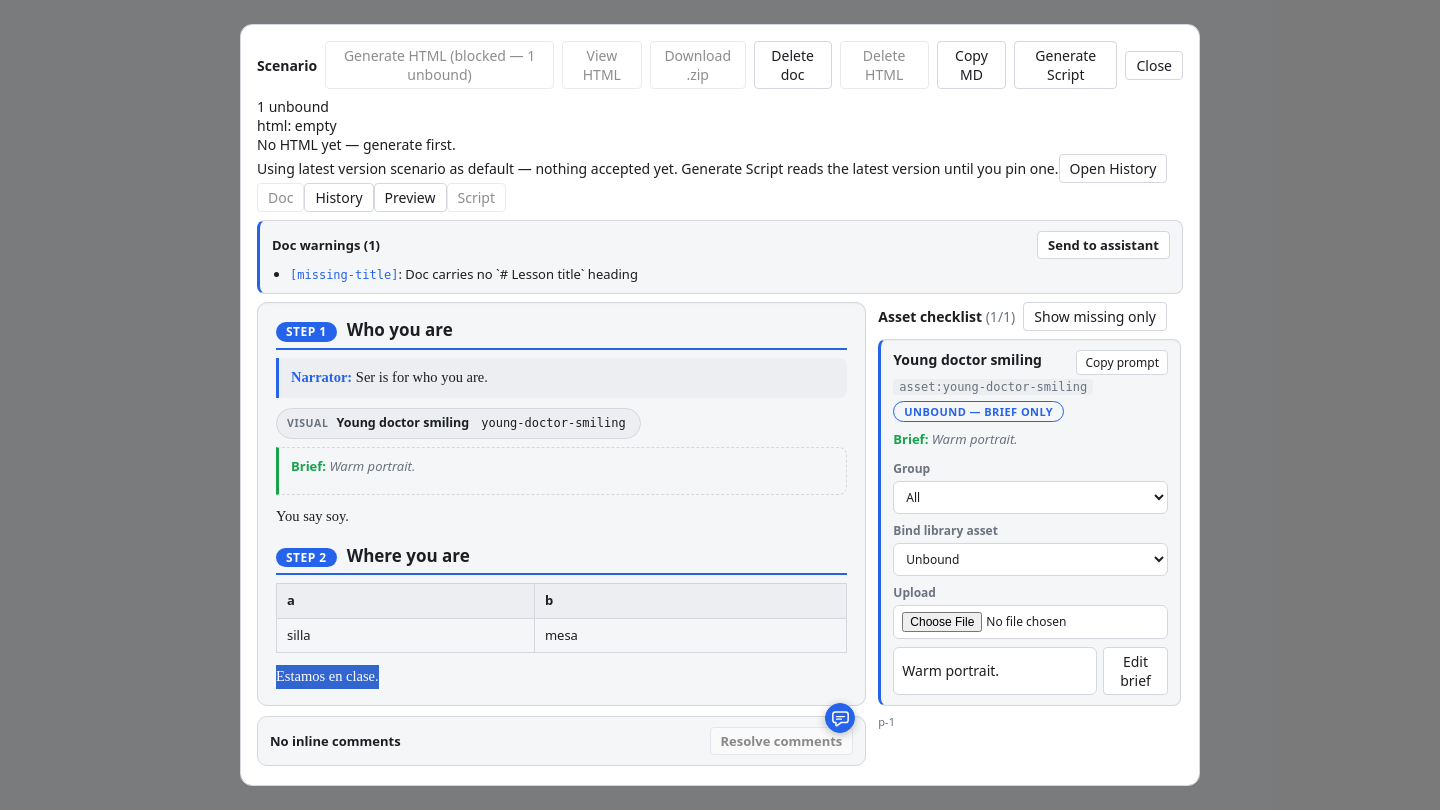
Test: AiScenarioDocComments in the scenario modal › selecting text surfaces the floating button and editing/deleting works
Step 1. Click the button with test id "ai-scenario-comment-float-btn" → (840, 718), box [825, 703, 855, 733]
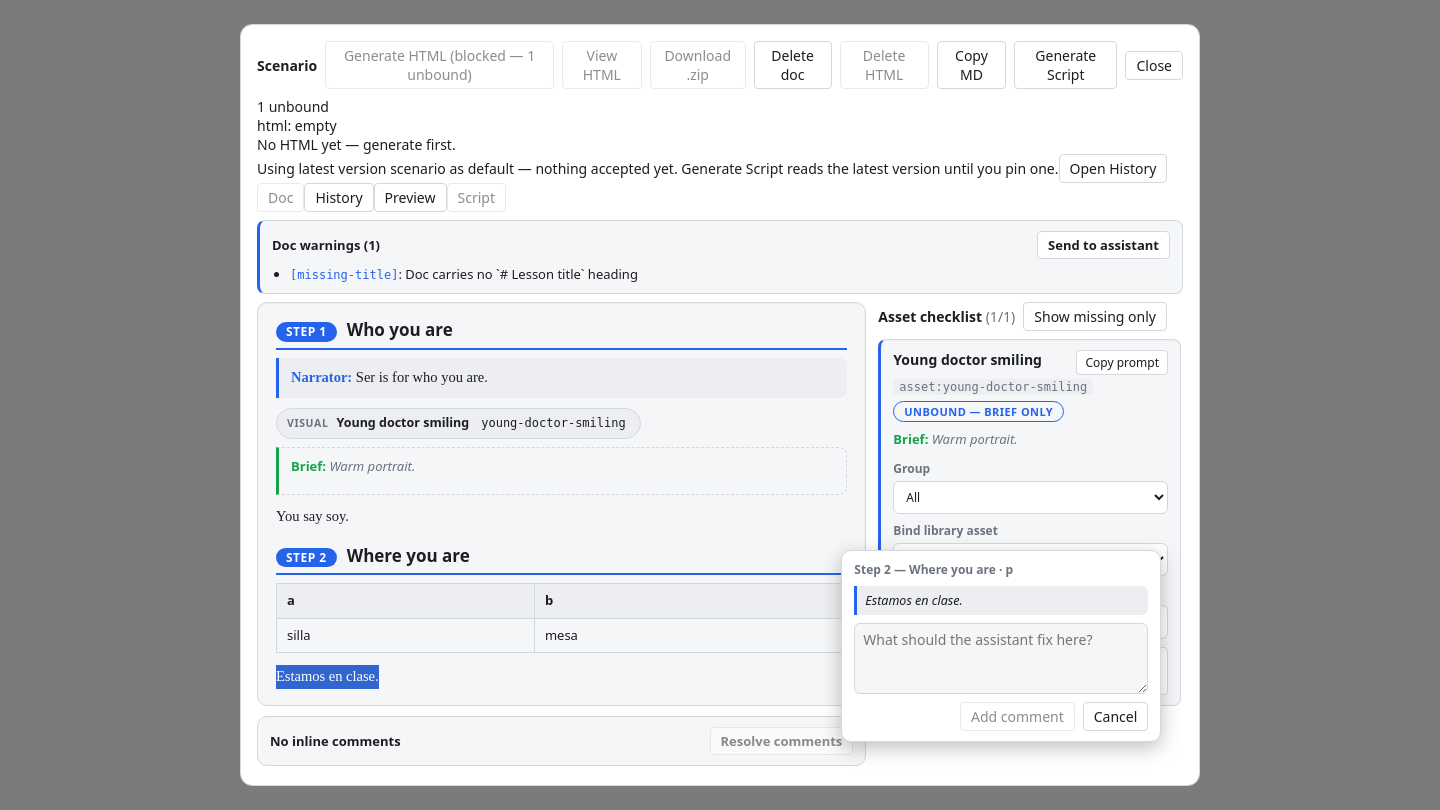
Step 2. Type "Rephrase." into the text box with test id "ai-scenario-comment-input" → (1001, 658), box [854, 623, 1148, 694]
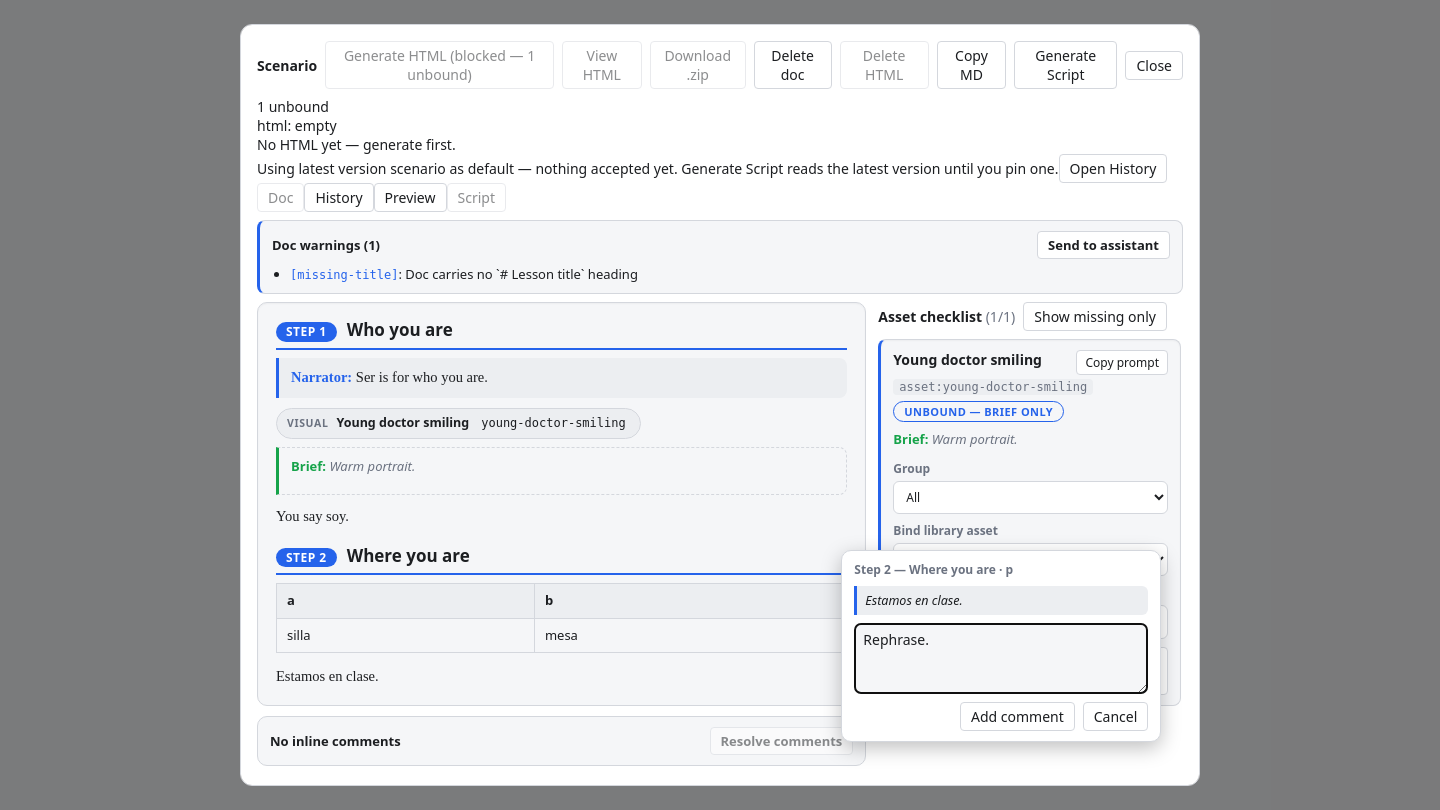
Step 3. Click the button with test id "ai-scenario-comment-save" → (1017, 716), box [960, 702, 1075, 731]
(page scrolled)
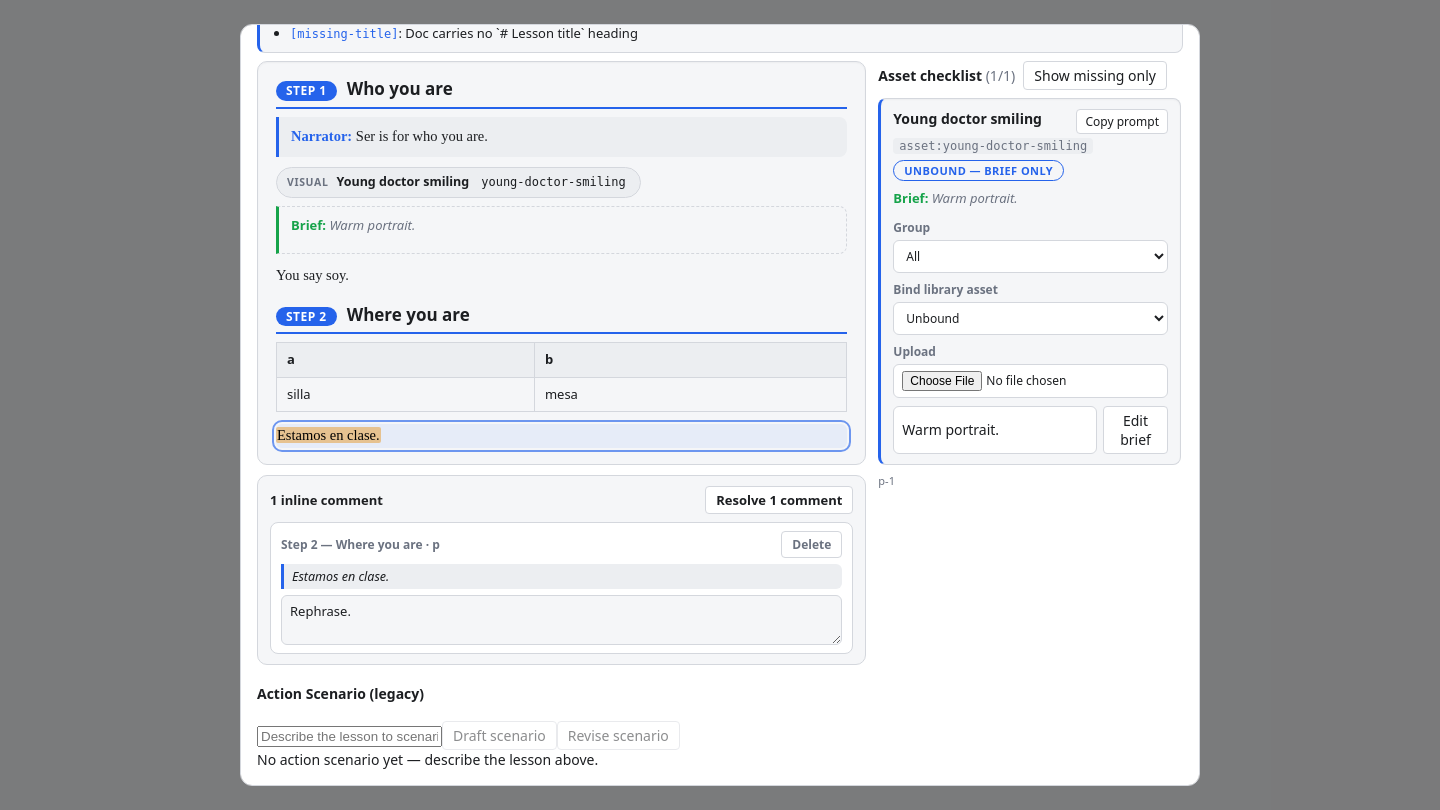
Expected: the list with test id "ai-scenario-comments-list" shows "Estamos en clase", [292, 568, 389, 585]
Step 4. Replace the text in the text box named "Edit comment on Step 2 — Where you are" with "Rephrase kindly." → (562, 620), box [281, 595, 842, 645]
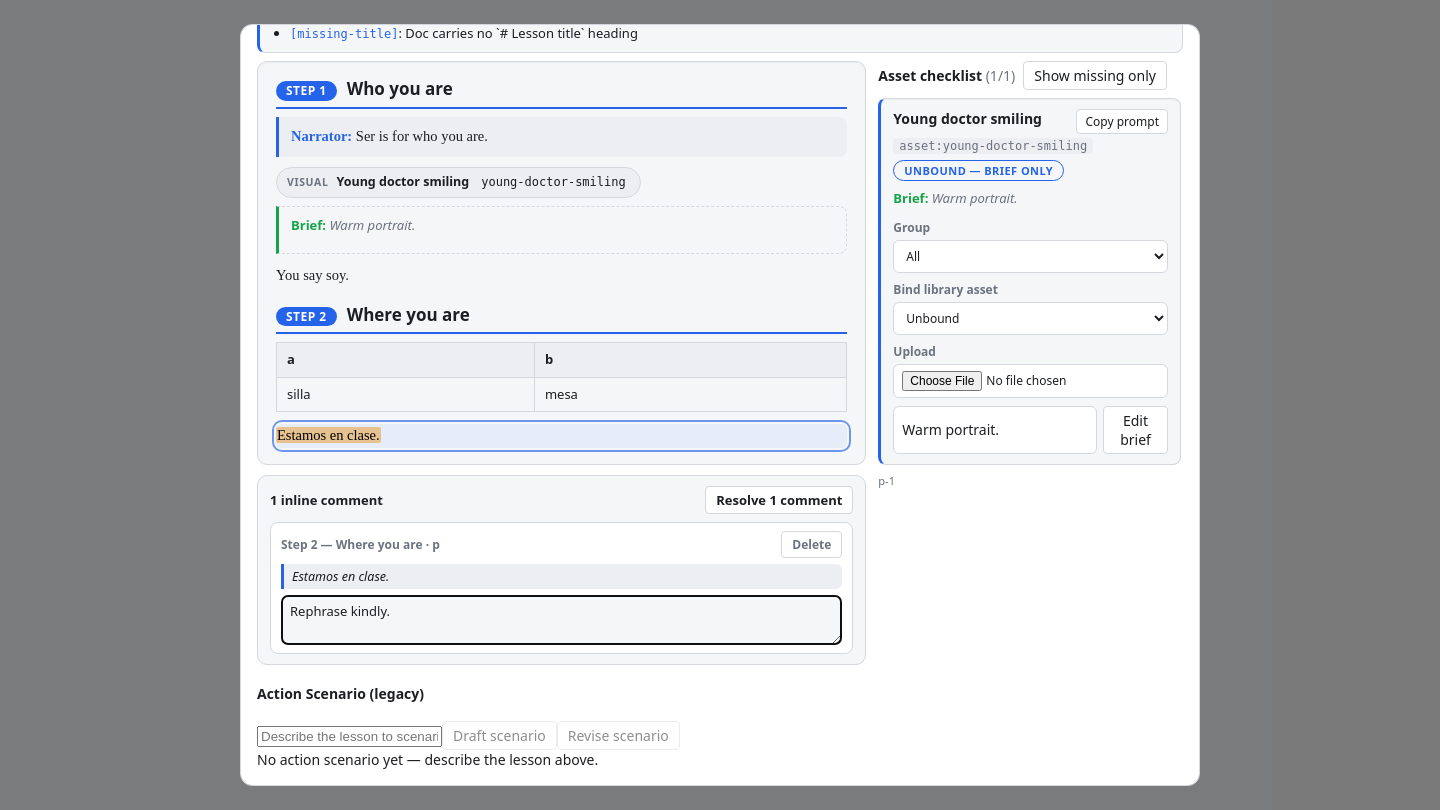
Step 5. Click the button "Delete" → (812, 545), box [781, 531, 842, 558]
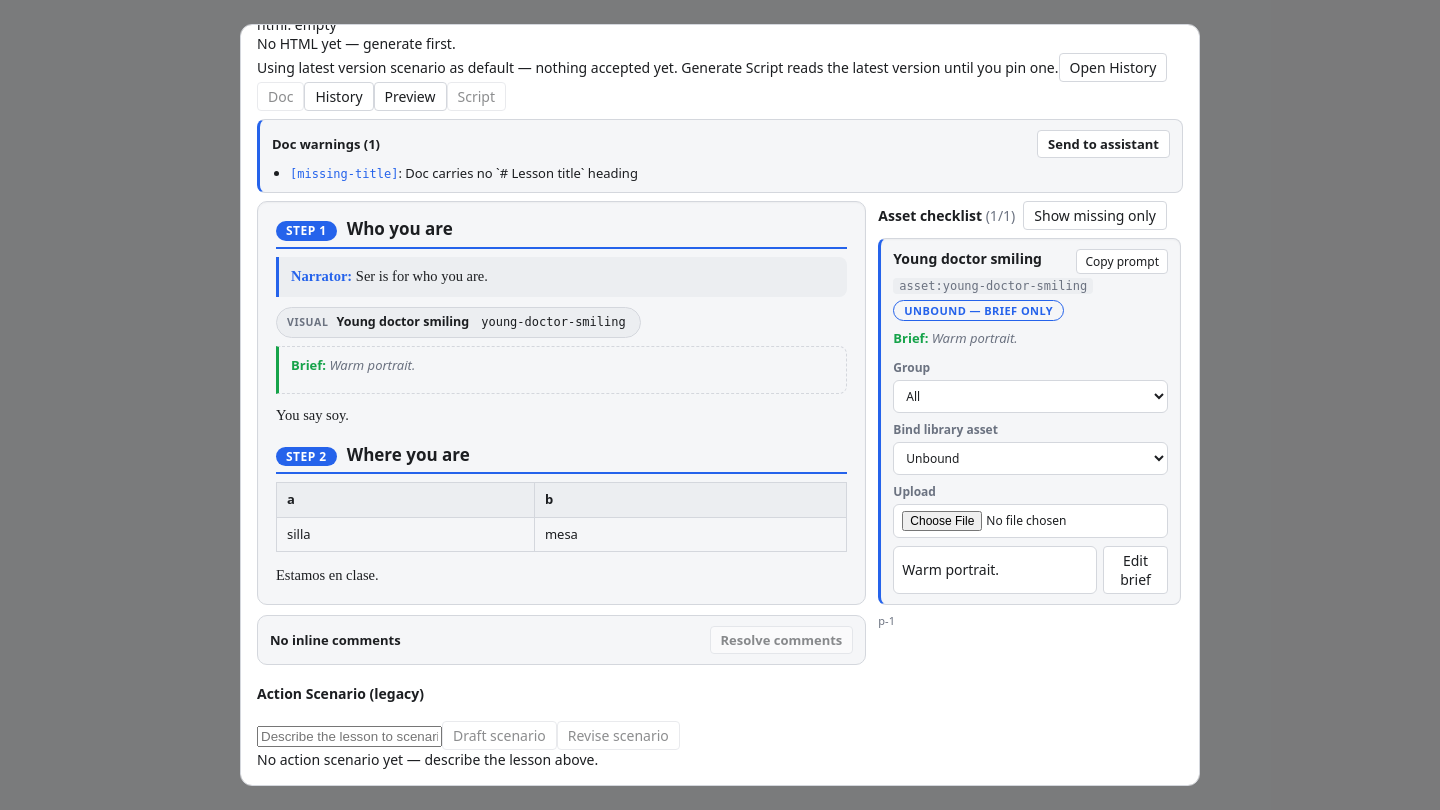
Expected: the list with test id "ai-scenario-comments-list" is gone
Expected: the button with test id "ai-scenario-comments-send" is disabled, [710, 626, 853, 654]
